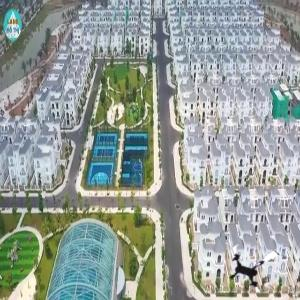drone: (224, 238, 283, 297)
